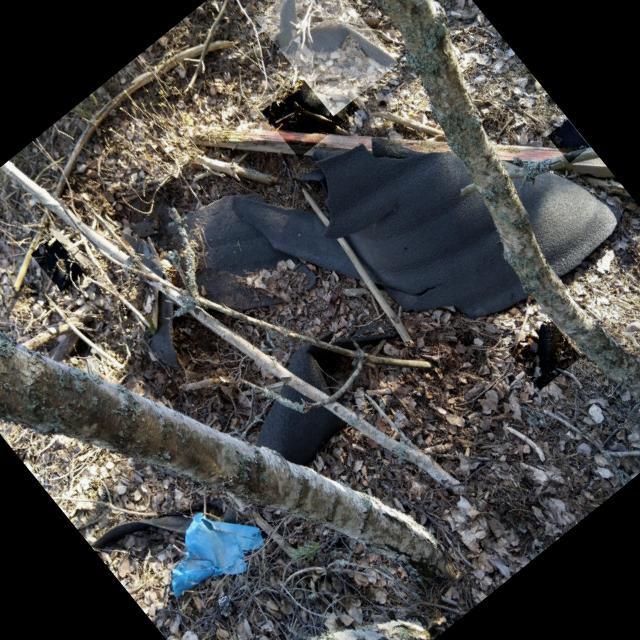Other plastic bottle: (276, 0, 399, 65), (264, 90, 351, 135), (46, 242, 81, 291), (537, 324, 562, 389), (552, 120, 590, 148)
Plastic film: (172, 512, 265, 596)
Styrofoam piece: (219, 596, 233, 616)
